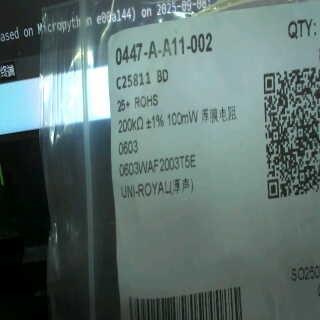200kR: (117, 113, 145, 136)
